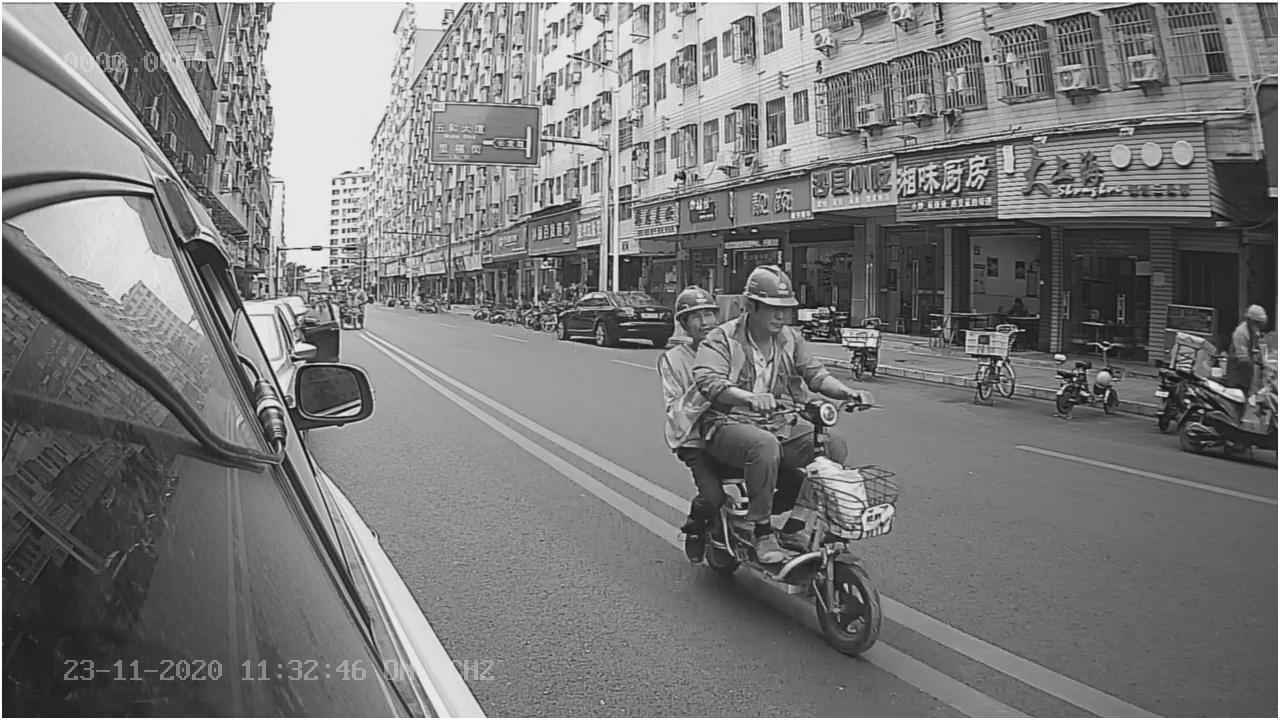person: (696, 251, 860, 408)
